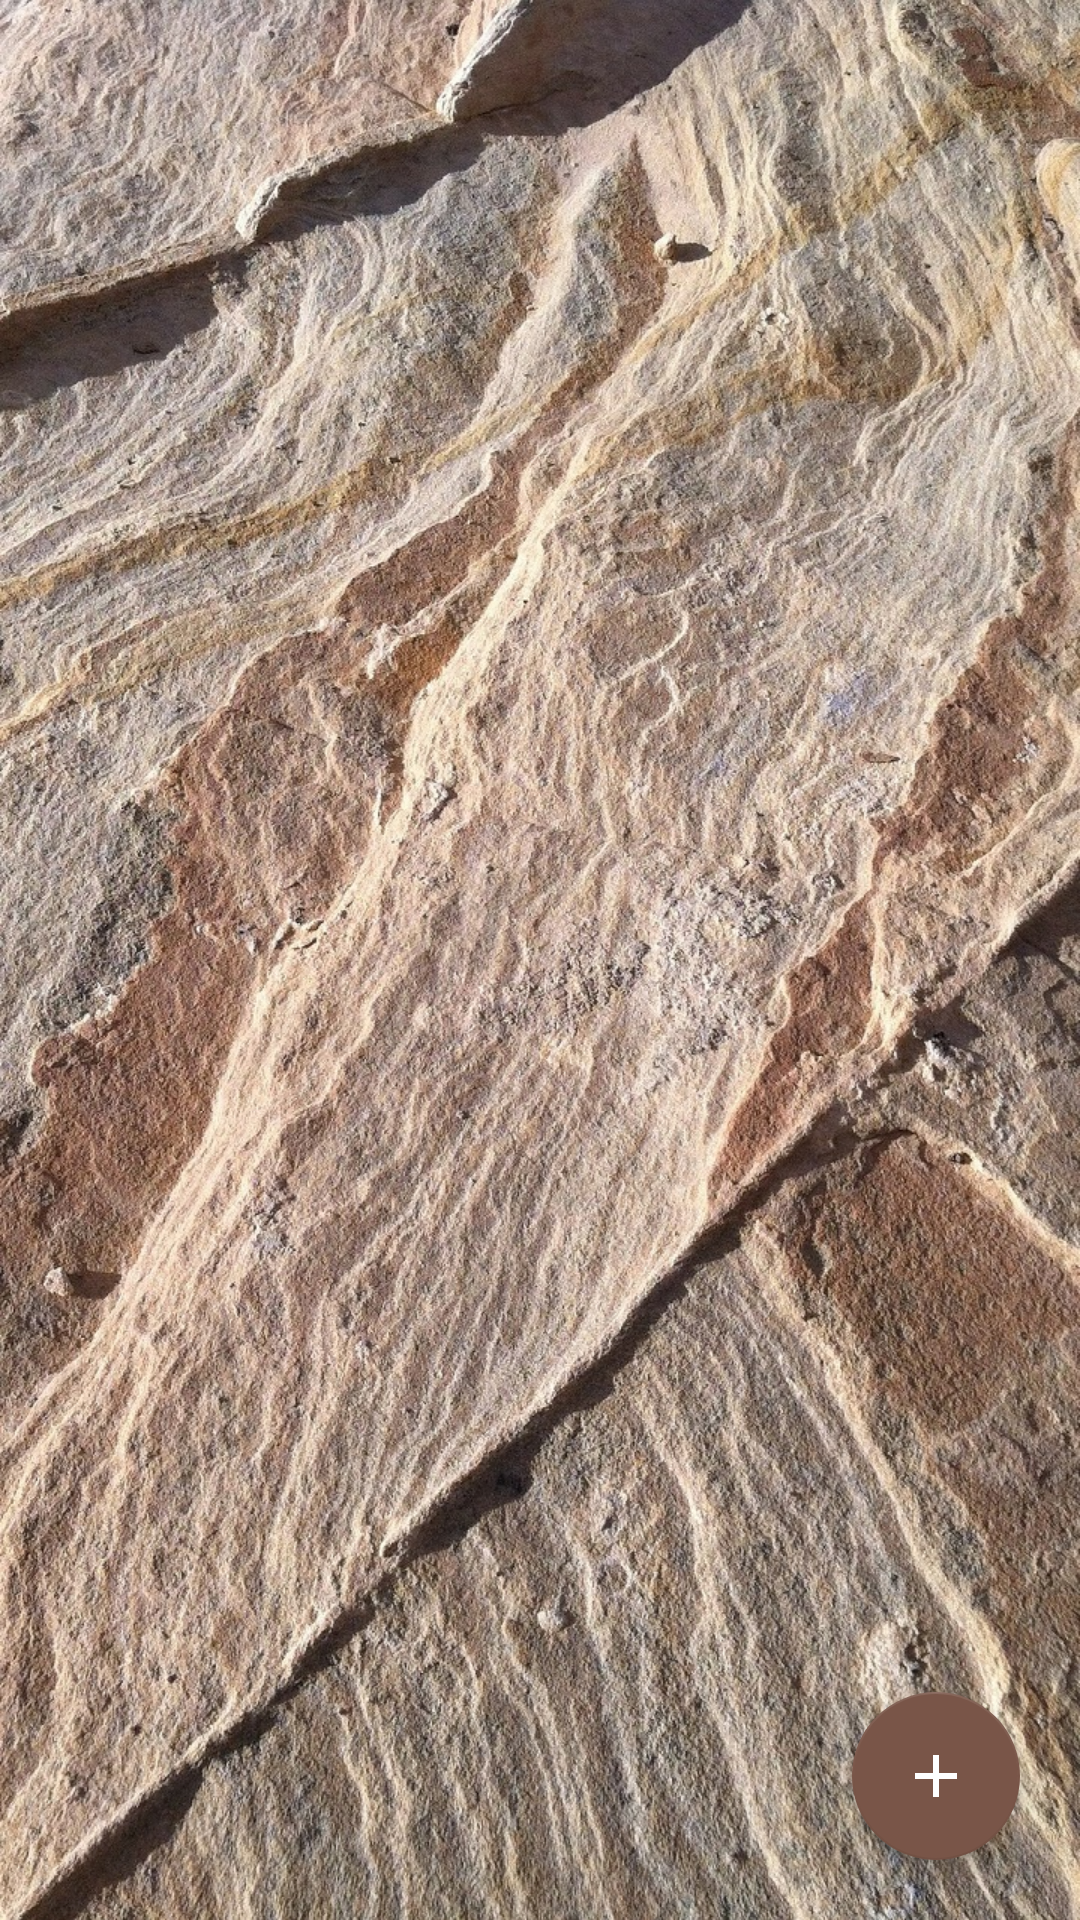

Icons on this 1080 × 1920 Android screen, each with the point to tap as [x,y]:
add: [936,1776]
